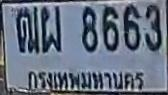3: (144, 3, 161, 50)
6: (122, 3, 140, 50), (102, 5, 118, 50)
8: (81, 6, 97, 51)
A18: (15, 7, 38, 53)
A28: (40, 5, 61, 52)
BKK: (23, 68, 149, 93)
